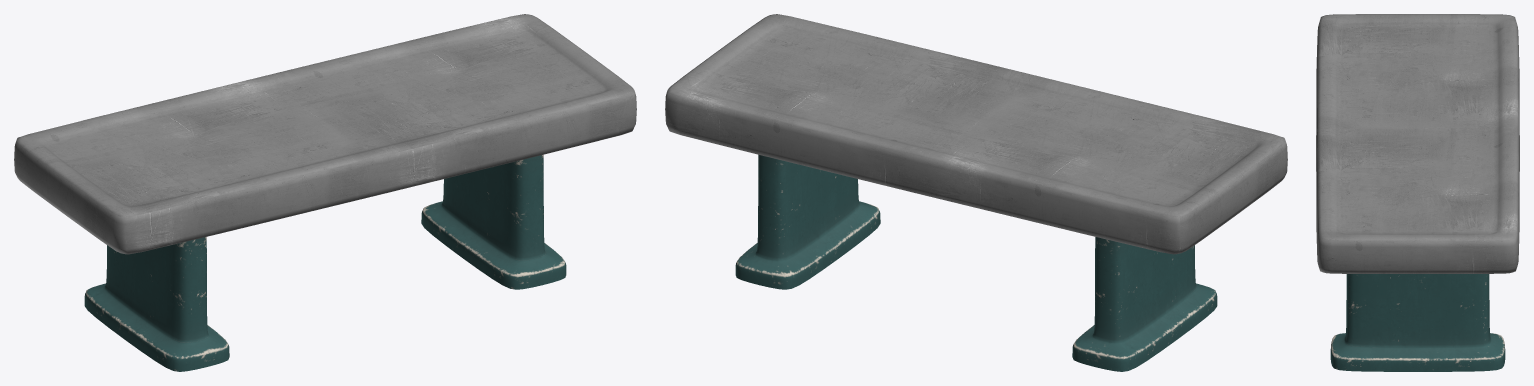
File: Morguetable_AA.fbx
The picture shows the model from 3 angles, left to right: view 1: azimuth 30°, elevation 25°; view 2: azimuth 150°, elevation 25°; view 3: azimuth 270°, elevation 25°; orthographic projection. The views are drawn at different scales.
Visible parts, largest first — view 1: Morguetable_AA; view 2: Morguetable_AA; view 3: Morguetable_AA.
Boxes of the visible parts, left/top/right/bottom form: Morguetable_AA: left=14, top=14, right=636, bottom=371; Morguetable_AA: left=665, top=14, right=1287, bottom=371; Morguetable_AA: left=1316, top=14, right=1519, bottom=371.
Bounding box in the file's own units: 2.13 × 0.8042 × 0.688.
1 material, 1 textured.
